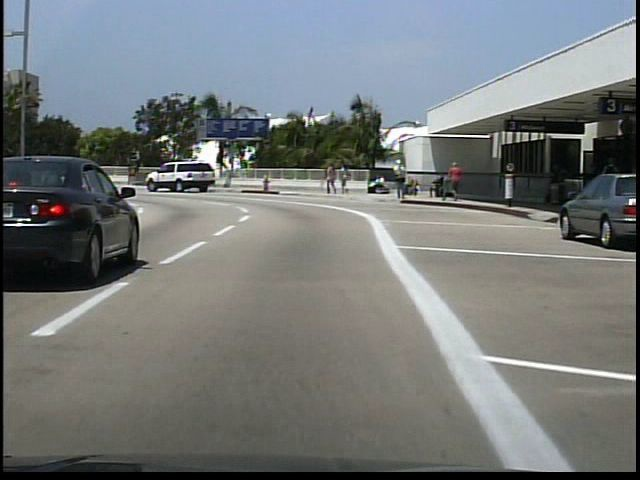person: (593, 153, 622, 221), (393, 157, 408, 204), (449, 160, 466, 201), (340, 162, 352, 198), (326, 161, 338, 196), (367, 175, 387, 195)
